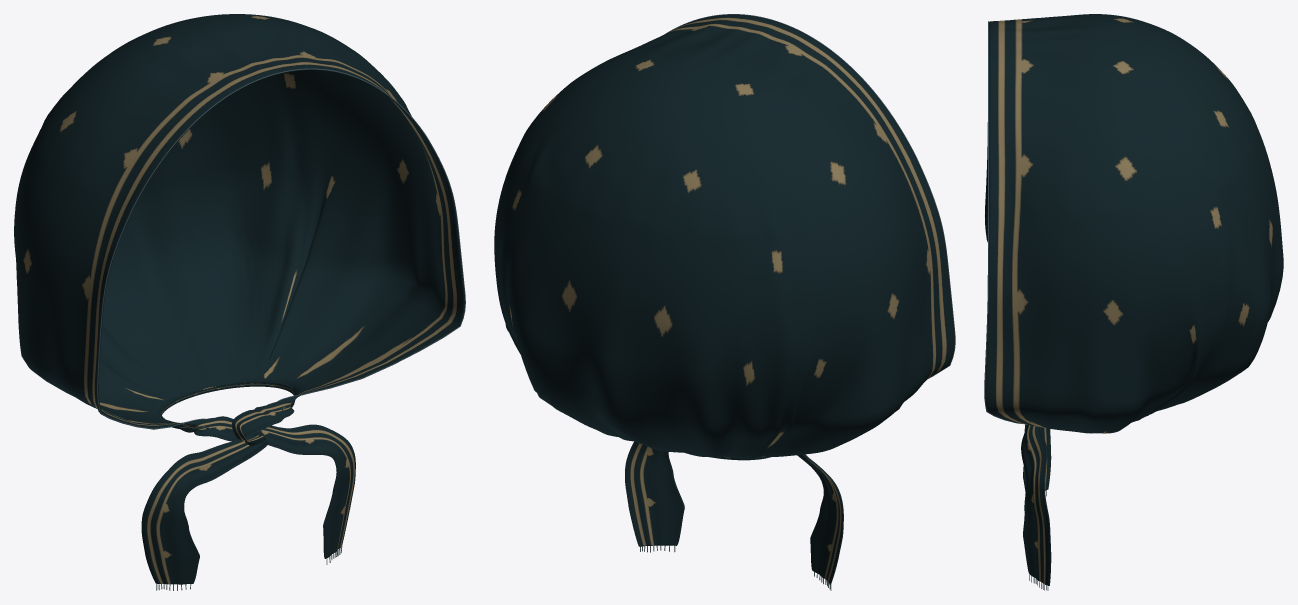
The model's file is Masculine-shirtless-pashmina244-headgear.glb.
3 renders of one model, left to right at view 1: azimuth 30°, elevation 25°; view 2: azimuth 150°, elevation 25°; view 3: azimuth 270°, elevation 25°, orthographic. The views are drawn at different scales.
Visible parts, largest first — view 1: 226 headgear / Headwear / continuous woven pashmina239, 226 headgear / Headwear / face edge239; view 2: 226 headgear / Headwear / continuous woven pashmina239, 226 headgear / Headwear / face edge239; view 3: 226 headgear / Headwear / continuous woven pashmina239, 226 headgear / Headwear / face edge239.
Boxes of the visible parts, <box> form: 226 headgear / Headwear / continuous woven pashmina239: <box>14,14,464,584</box>; 226 headgear / Headwear / face edge239: <box>97,68,465,429</box>; 226 headgear / Headwear / continuous woven pashmina239: <box>494,14,954,584</box>; 226 headgear / Headwear / face edge239: <box>666,14,955,378</box>; 226 headgear / Headwear / continuous woven pashmina239: <box>985,14,1283,585</box>; 226 headgear / Headwear / face edge239: <box>984,21,1021,423</box>.
Bounding box in the file's own units: 1.03 × 1.35 × 0.7127.
3 materials, 1 textured.
